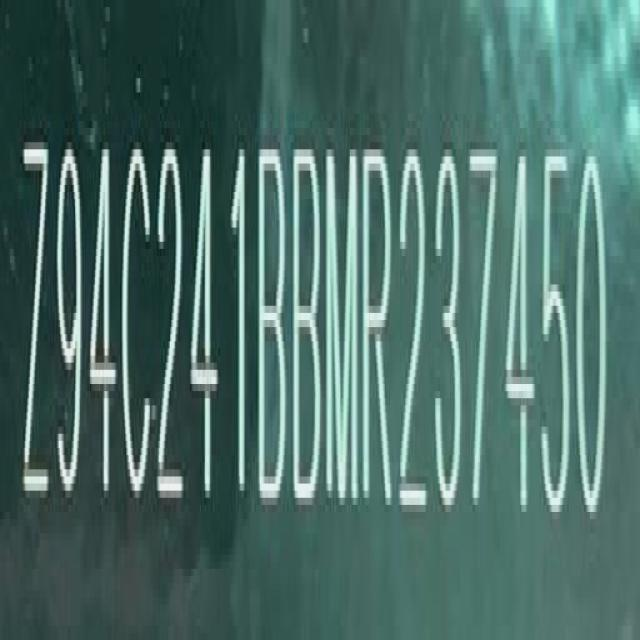0: (577, 149, 608, 532)
1: (227, 142, 250, 516)
2: (397, 144, 430, 520), (156, 141, 188, 514)
3: (434, 142, 465, 521)
4: (506, 141, 538, 523), (88, 139, 120, 512), (192, 142, 224, 515)
5: (541, 147, 574, 527)
7: (468, 139, 500, 521)
9: (56, 140, 84, 513)
B: (292, 138, 326, 515), (256, 139, 288, 514)
C: (123, 142, 155, 514)
M: (326, 139, 362, 515)
R: (362, 143, 394, 517)
Z: (19, 131, 49, 517)
